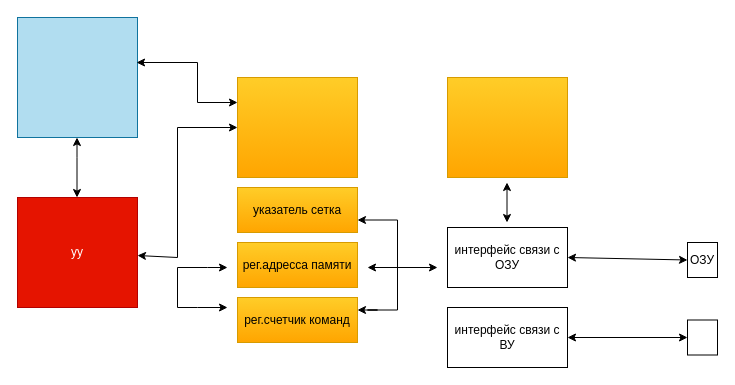
The diagram is 735 pixels wide and 385 high, and some of its shapes have lost their labels. Here are the shapes that lost their labels. From the top down, the box of each, then its label:
(16, 16, 138, 138): АЛУ
(236, 76, 358, 178): РОН (СОЗУ)
(446, 76, 568, 178): КЭШ L1
(686, 319, 718, 355): ВУ
